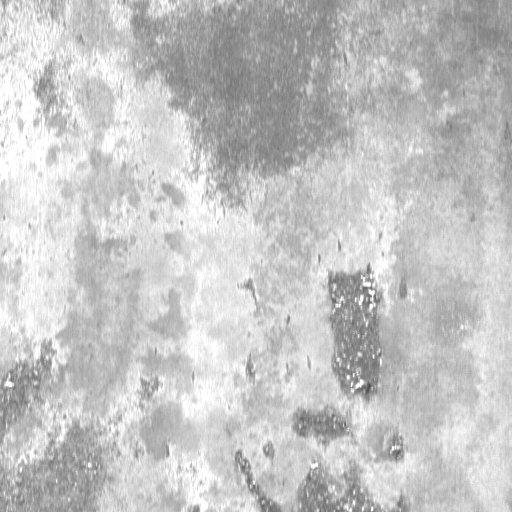qiaopi: (325, 264, 386, 403)
